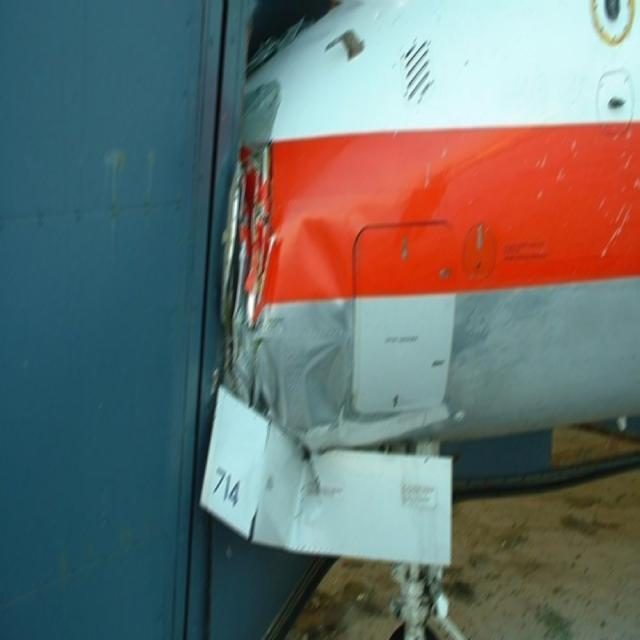dent: (292, 221, 353, 435)
